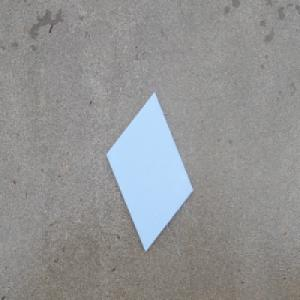PaintChip: (104, 90, 193, 253)
